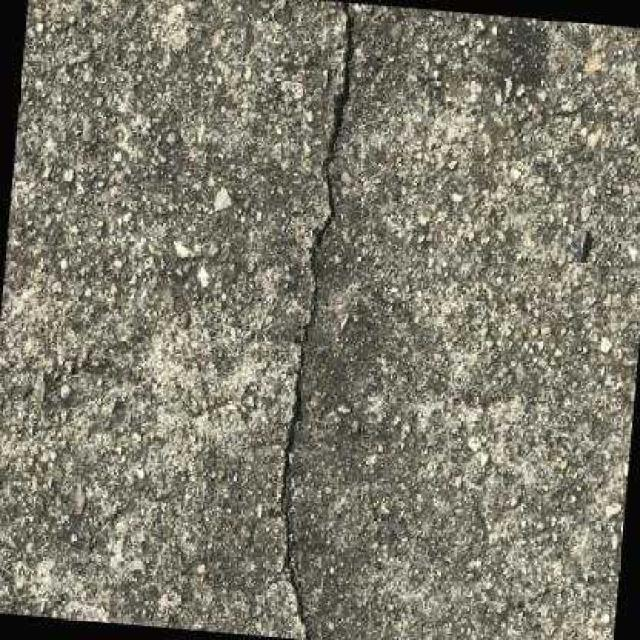D00: (274, 14, 354, 640)
